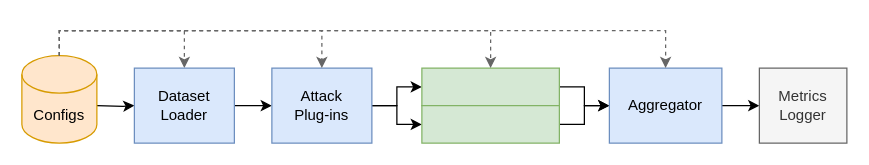
The diagram is 869 pixels wide and 165 high, and some of its shapes have lost their labels. Here are the shapes that lost their labels. From the top down, the centre of each, then its label:
At point 490,86: "Seller Simulator".
At point 490,123: "Buyer Simulator".
